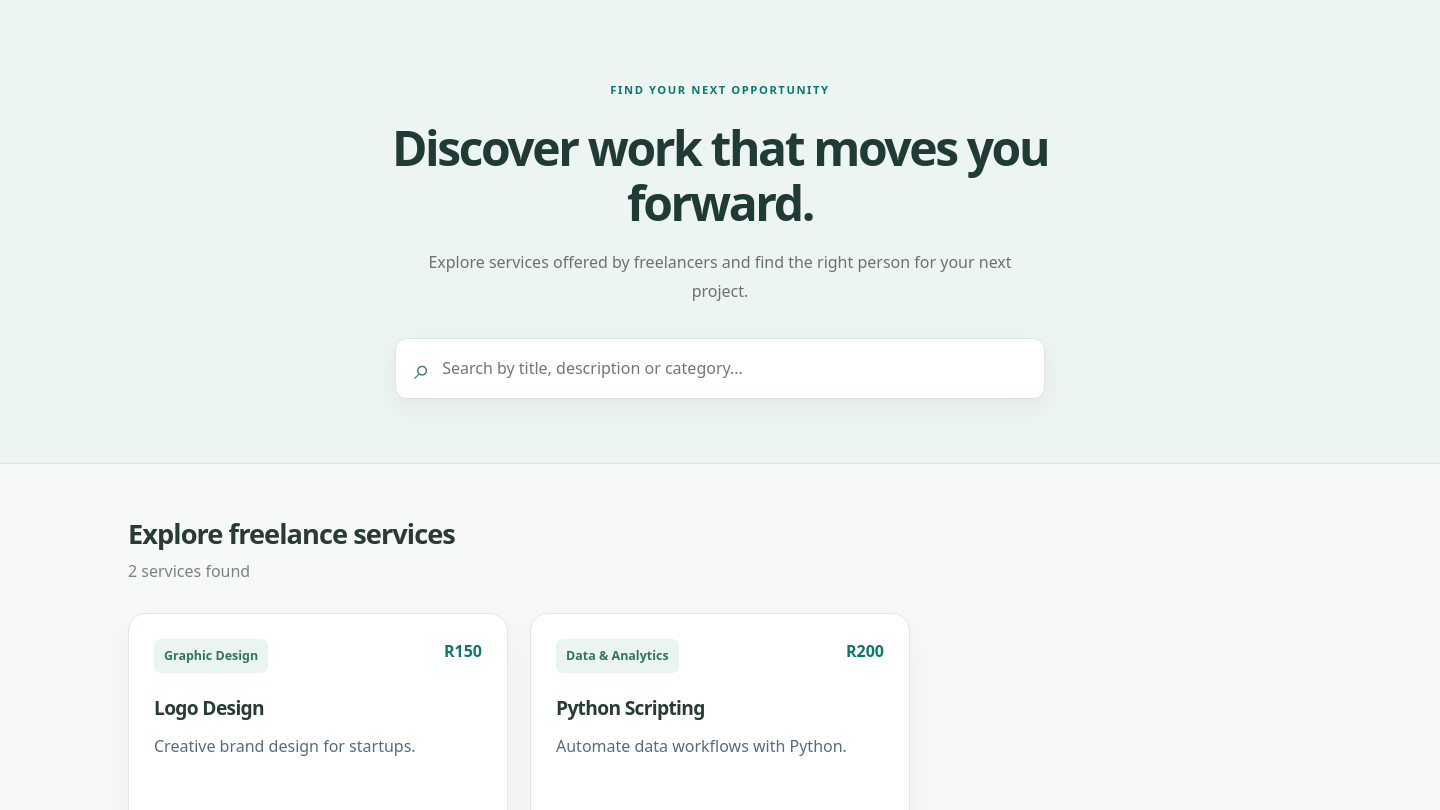
it: Gigs (Browse) Component › filters gigs according to search query input
Expected: the heading "Logo Design" is shown, [154, 694, 264, 721]
Expected: the heading "Python Scripting" is shown, [556, 694, 705, 721]
In the search field named "Search gigs": (734, 368) [442, 339, 1026, 398], type "Python"
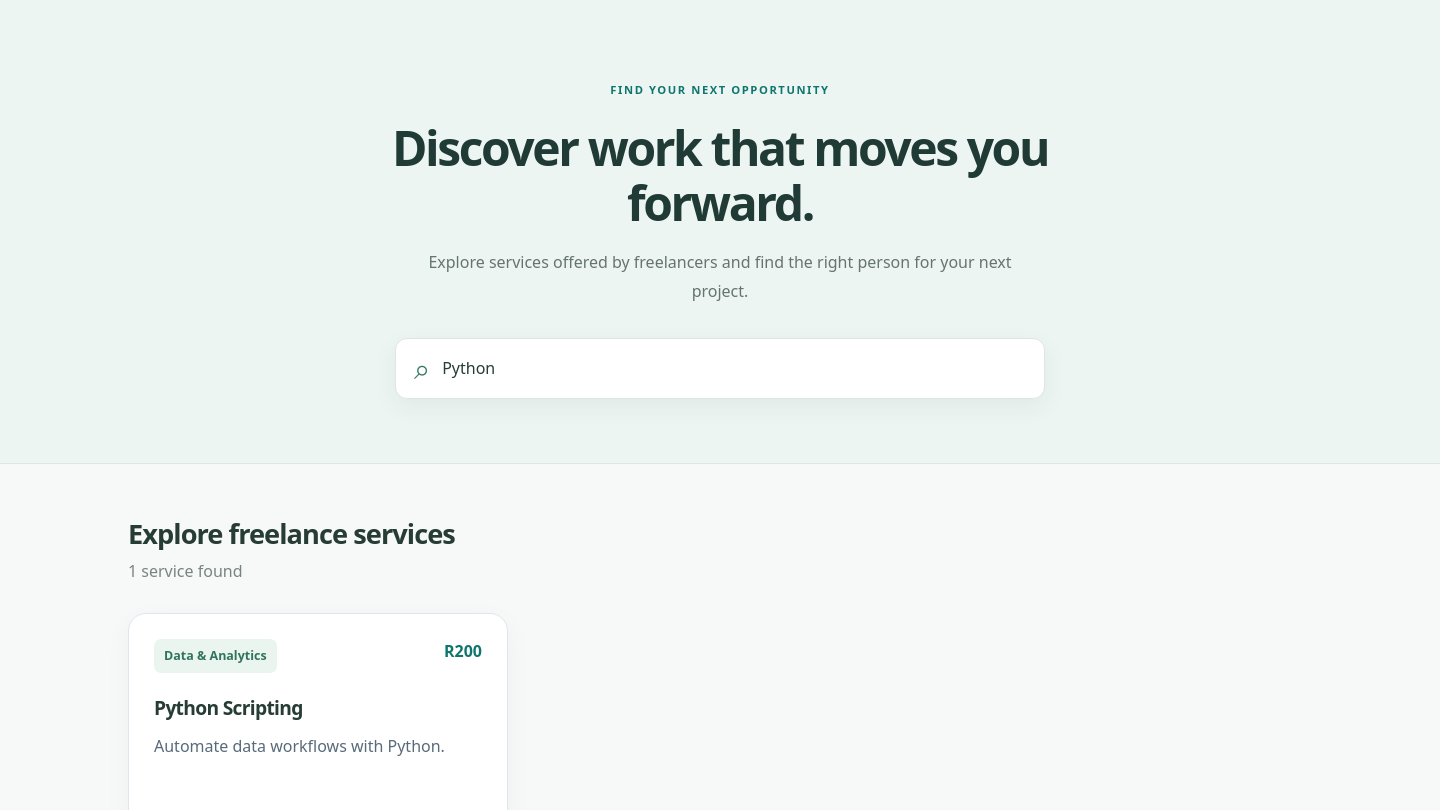
Expected: the heading "Python Scripting" is shown, [154, 694, 303, 721]
Expected: the heading "Logo Design" is gone
